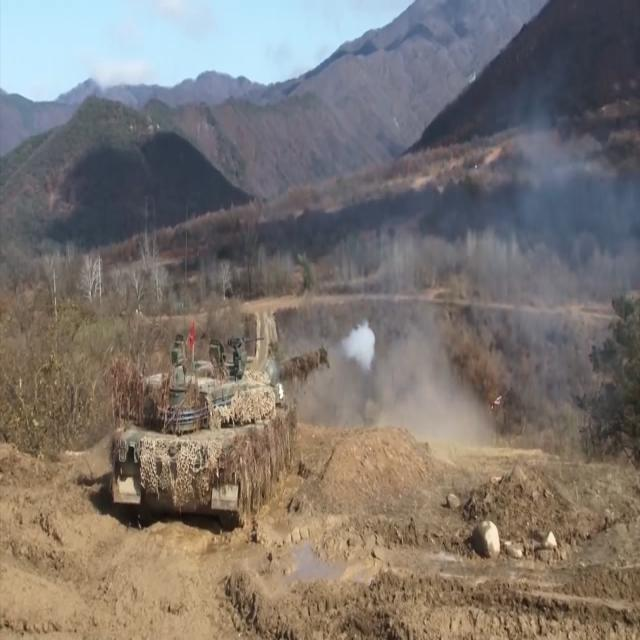korea tank: (106, 331, 328, 537)
